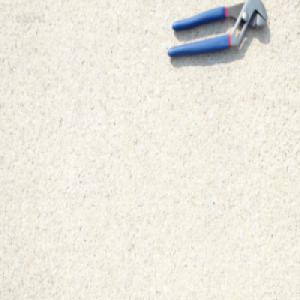Pliers: (166, 0, 268, 59)
